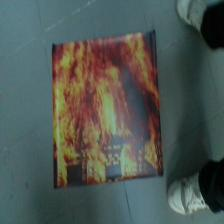fire-poster: (52, 30, 163, 188)
